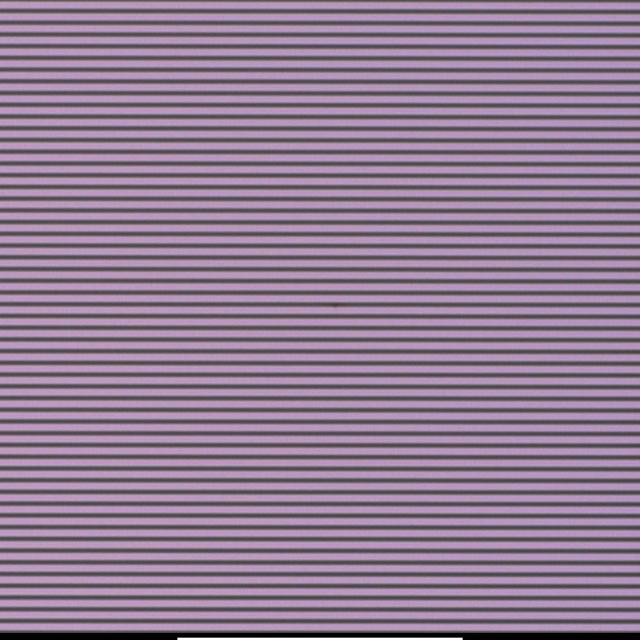03_intrusion: (325, 297, 344, 314)
